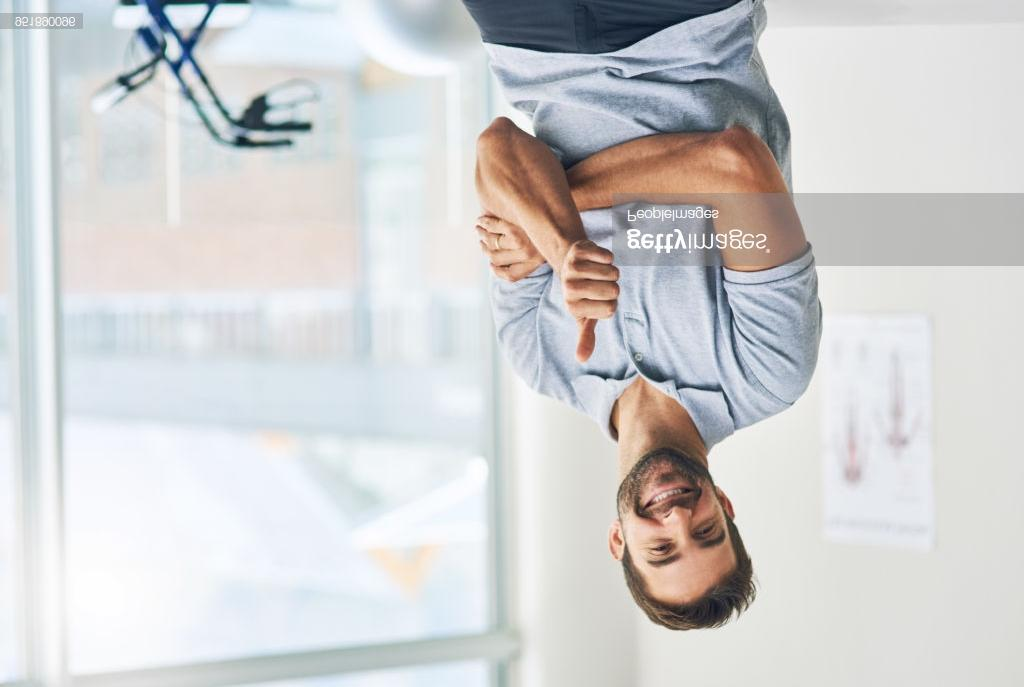thumbsdown: (562, 246, 619, 363)
